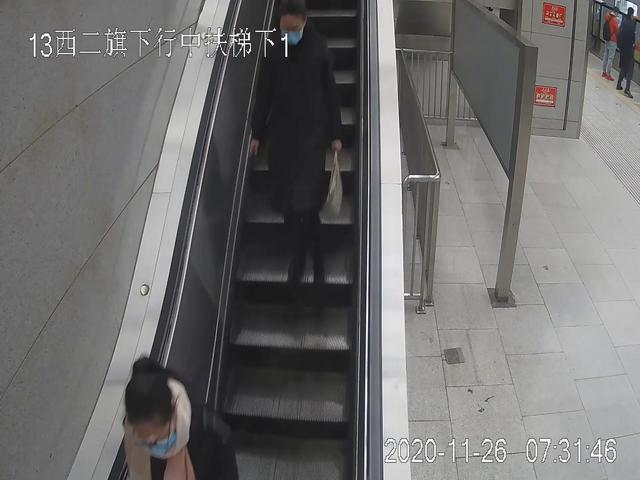person: (251, 1, 342, 282), (123, 357, 238, 480), (617, 8, 640, 97), (600, 6, 621, 80)
